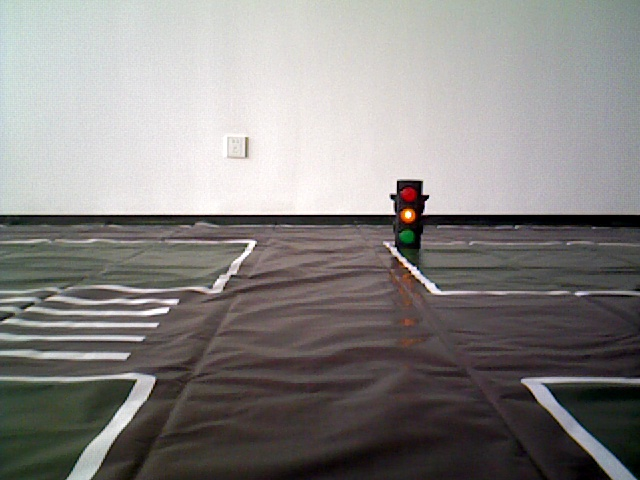yellow: (392, 179, 425, 244)
